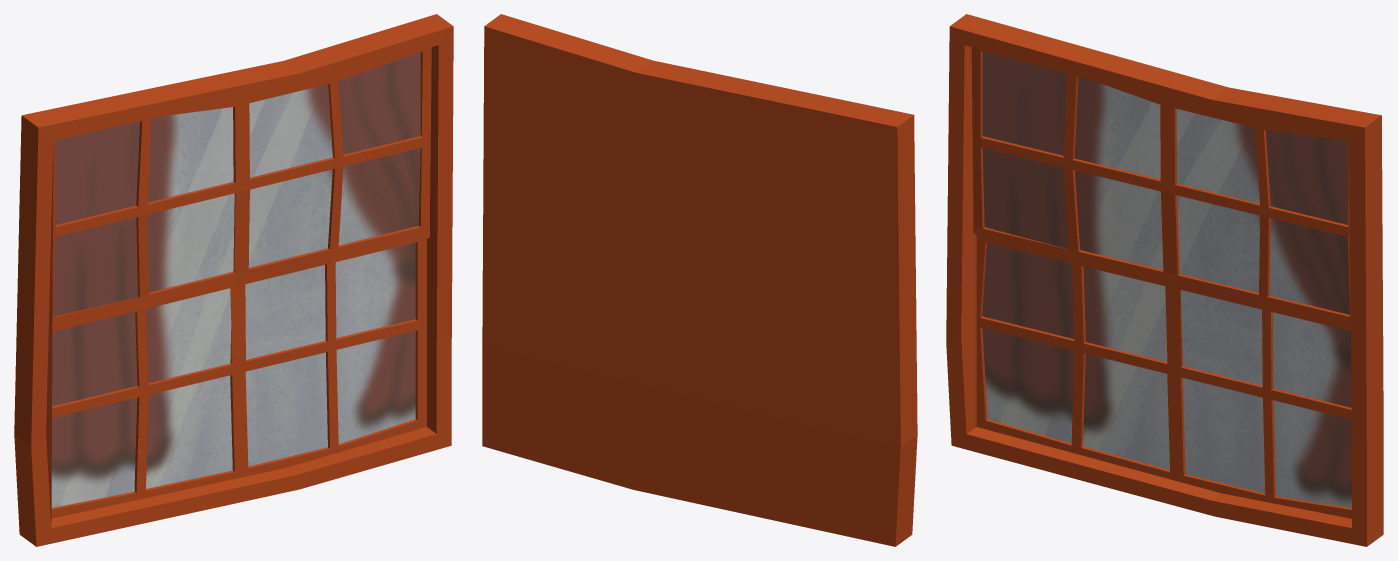
Rendered from Window4.fbx.
3 views of the same model, side by side, from view 1: azimuth 30°, elevation 25°; view 2: azimuth 150°, elevation 25°; view 3: azimuth 330°, elevation 25° (orthographic).
Visible parts, largest first — view 1: Cube.010; view 2: Cube.010; view 3: Cube.010.
Boxes of the visible parts, x1=… form: Cube.010: x1=14, y1=14, x2=453, y2=546; Cube.010: x1=482, y1=14, x2=917, y2=546; Cube.010: x1=946, y1=14, x2=1383, y2=546.
Bounding box in the file's own units: 175 × 170 × 13.62.
